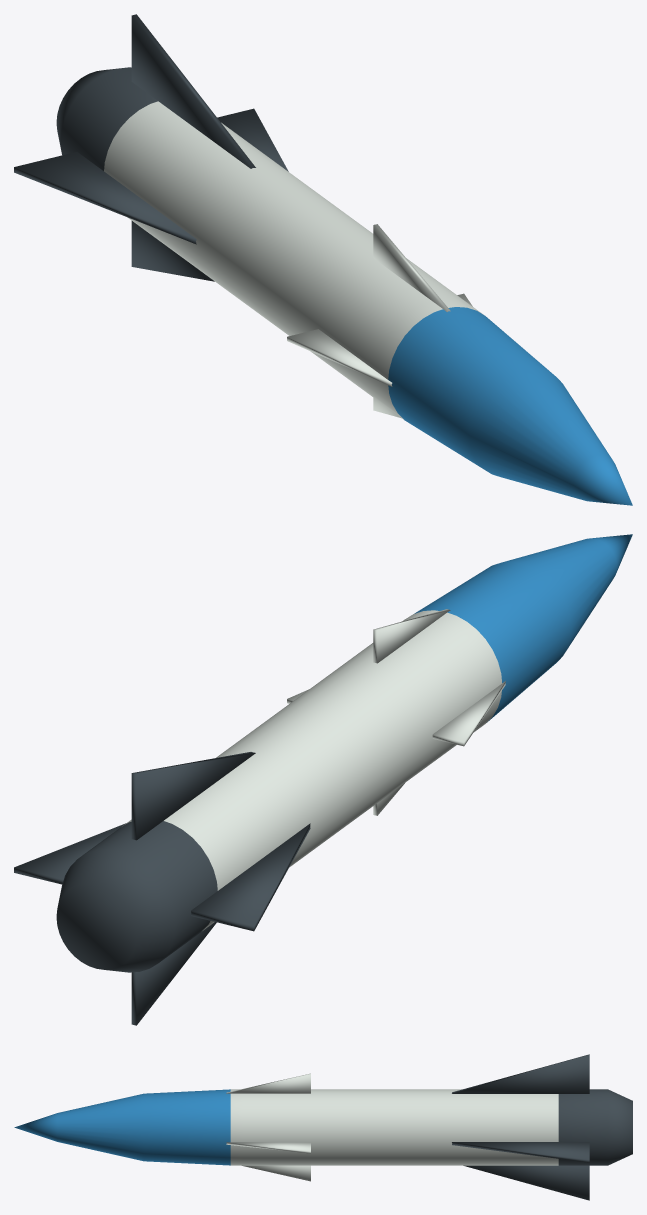
File: missile_interceptor_projectile_display.glb
3 renders of one model, top to bottom at view 1: azimuth 30°, elevation 25°; view 2: azimuth 150°, elevation 25°; view 3: azimuth 270°, elevation 25°, orthographic. The views are drawn at different scales.
Parts seen in each view (by area): view 1: AMMO_MESH.059; view 2: AMMO_MESH.059; view 3: AMMO_MESH.059.
Part boxes in pixels (left/top/right/bottom): AMMO_MESH.059: left=14, top=14, right=632, bottom=505; AMMO_MESH.059: left=14, top=534, right=632, bottom=1025; AMMO_MESH.059: left=14, top=1054, right=632, bottom=1200.
Size of the model in its own units: 0.672 by 0.672 by 2.6.
